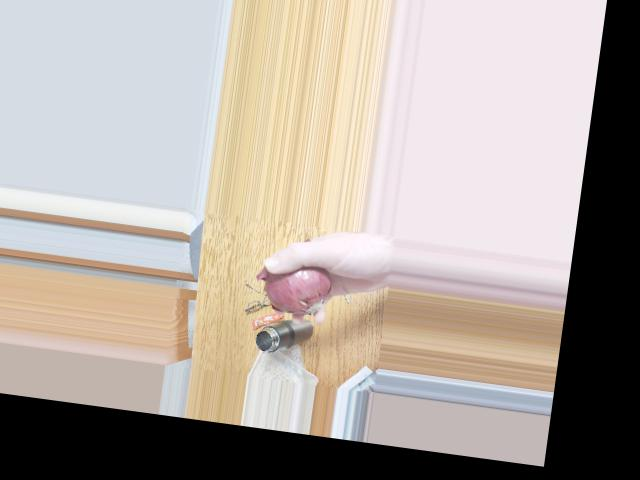onion: (268, 253, 335, 317)
